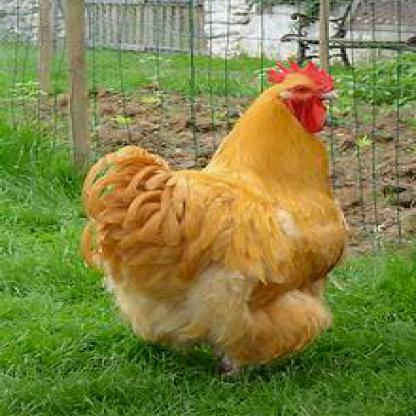chicken: (80, 61, 344, 365)
